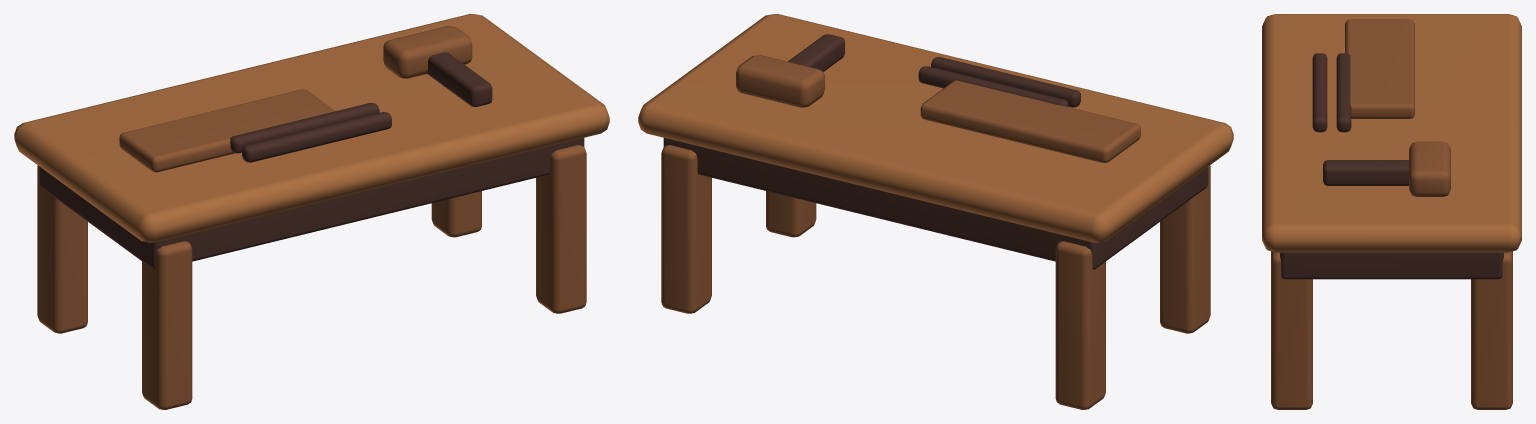
File: living-worktable.glb
The picture shows the model from 3 angles, left to right: view 1: azimuth 30°, elevation 25°; view 2: azimuth 150°, elevation 25°; view 3: azimuth 270°, elevation 25°; orthographic projection. The views are drawn at different scales.
Parts seen in each view (by area): view 1: living_worktable_pivot_Mesh; view 2: living_worktable_pivot_Mesh; view 3: living_worktable_pivot_Mesh.
Boxes of the visible parts, x1=… form: living_worktable_pivot_Mesh: x1=14, y1=14, x2=609, y2=409; living_worktable_pivot_Mesh: x1=638, y1=14, x2=1233, y2=409; living_worktable_pivot_Mesh: x1=1262, y1=14, x2=1521, y2=409.
Size of the model in its own units: 2.6 by 1.21 by 1.3.
